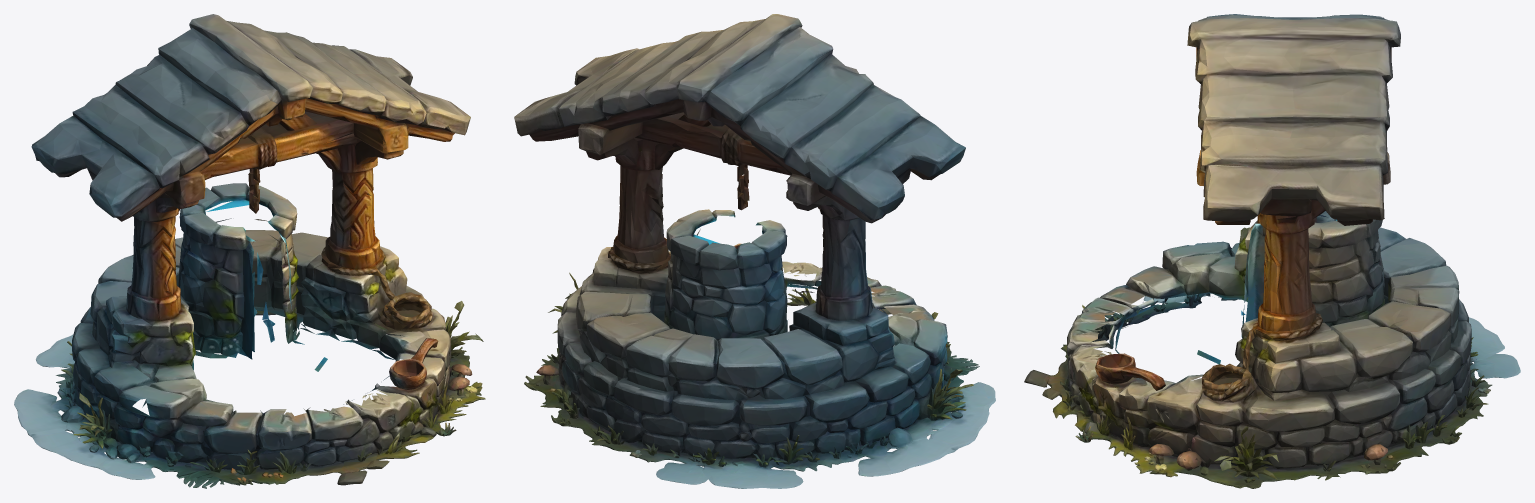
File: well.glb
The picture shows the model from 3 angles, left to right: view 1: azimuth 30°, elevation 25°; view 2: azimuth 150°, elevation 25°; view 3: azimuth 270°, elevation 25°; orthographic projection. The views are drawn at different scales.
Parts seen in each view (by area): view 1: geometry_0; view 2: geometry_0; view 3: geometry_0.
Boxes of the visible parts, bbox=[...] form: geometry_0: bbox=[14, 14, 485, 488]; geometry_0: bbox=[514, 14, 995, 488]; geometry_0: bbox=[1024, 14, 1520, 488].
Size of the model in its own units: 0.9793 by 0.7596 by 0.9318.
Materials: 1 (1 with a texture image).
